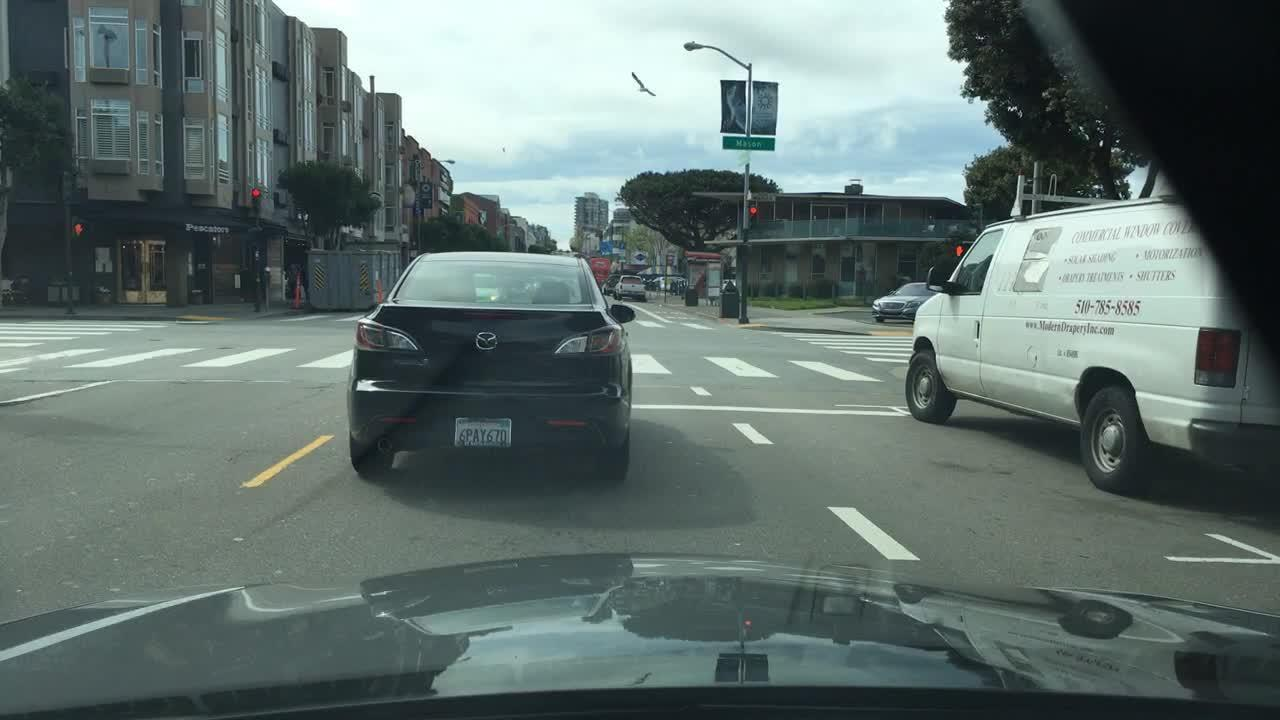Mazda: (467, 323, 512, 357)
